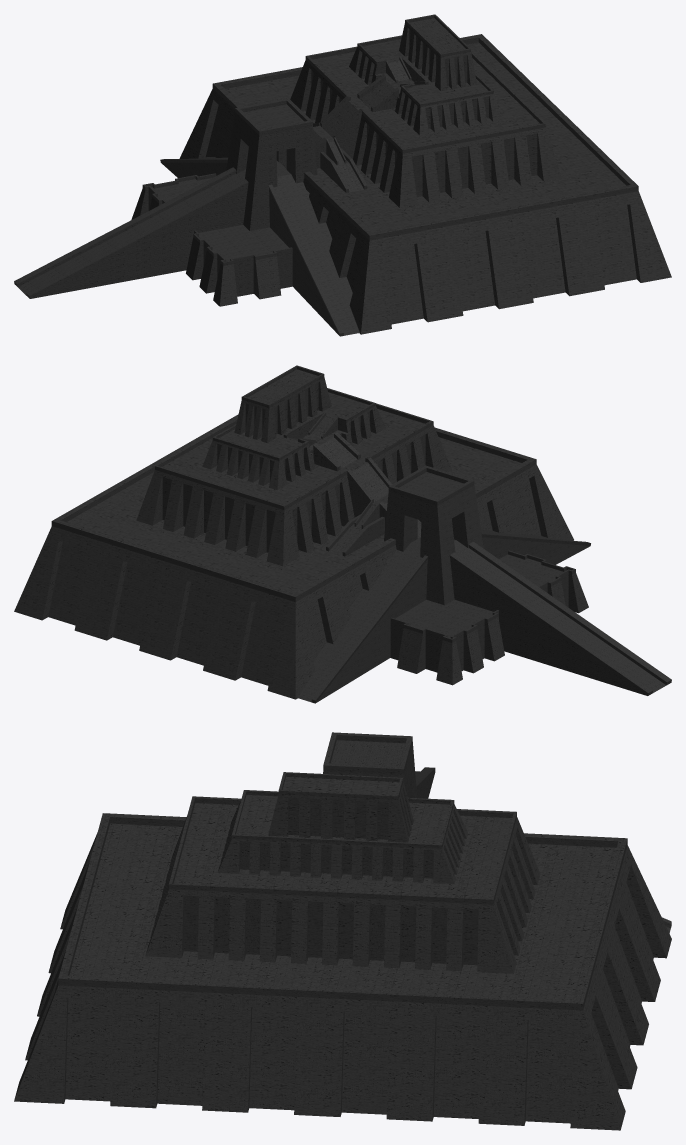
Rendered from xenosands-ziggurat.glb.
3 renders of one model, top to bottom at view 1: azimuth 30°, elevation 25°; view 2: azimuth 150°, elevation 25°; view 3: azimuth 270°, elevation 25°, orthographic. The views are drawn at different scales.
Parts seen in each view (by area): view 1: Cube.010, Cube.014, Cube.011, Cube.018, Cube.012, Cube.015, Cube.013; view 2: Cube.010, Cube.014, Cube.011, Cube.018, Cube.012, Cube.015, Cube.013; view 3: Cube.010, Cube.018, Cube.011, Cube.014.
Part boxes in pixels (x1=…): Cube.010: x1=179, y1=34, x2=671, y2=334; Cube.014: x1=14, y1=157, x2=359, y2=336; Cube.011: x1=131, y1=98, x2=317, y2=306; Cube.018: x1=399, y1=14, x2=476, y2=91; Cube.012: x1=279, y1=96, x2=361, y2=168; Cube.015: x1=313, y1=122, x2=367, y2=192; Cube.013: x1=357, y1=74, x2=398, y2=111; Cube.010: x1=14, y1=388, x2=573, y2=699; Cube.014: x1=297, y1=529, x2=671, y2=703; Cube.011: x1=384, y1=465, x2=588, y2=685; Cube.018: x1=234, y1=365, x2=331, y2=442; Cube.012: x1=347, y1=457, x2=421, y2=537; Cube.015: x1=326, y1=500, x2=384, y2=556; Cube.013: x1=313, y1=432, x2=360, y2=471; Cube.010: x1=14, y1=790, x2=671, y2=1130; Cube.018: x1=268, y1=772, x2=413, y2=842; Cube.011: x1=323, y1=732, x2=417, y2=797; Cube.014: x1=415, y1=767, x2=671, y2=933.
Size of the model in its own units: 75.93 by 23.94 by 58.61.
1 material, 1 textured.
